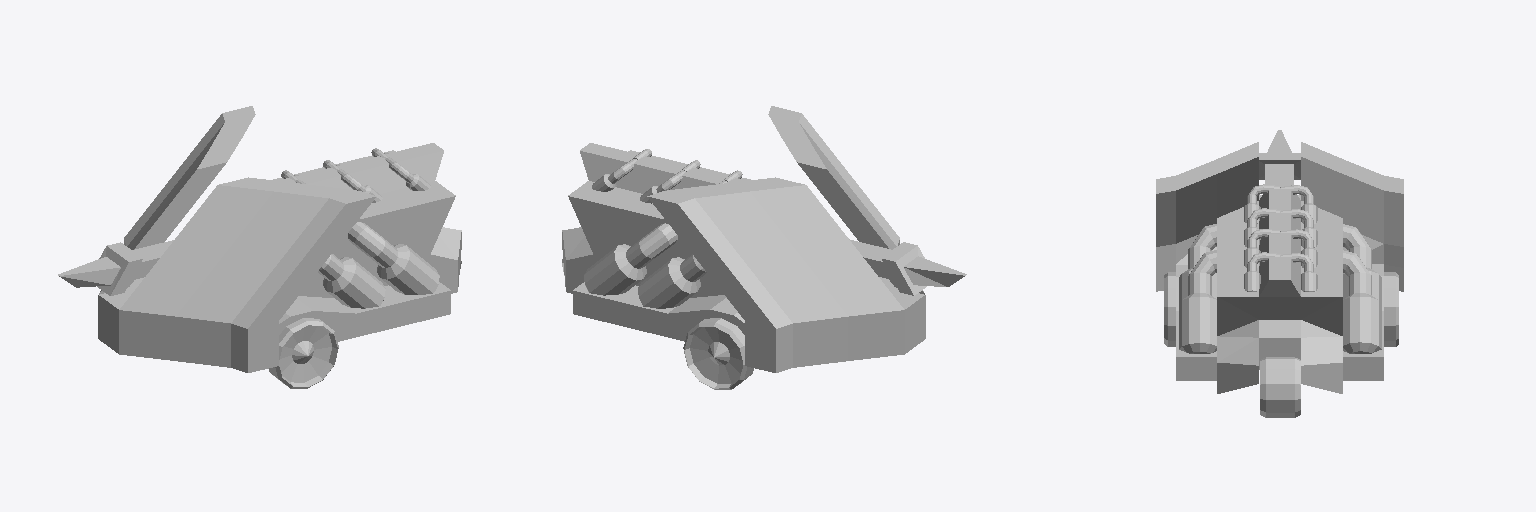
File: CrackHammer.obj
3 renders of one model, left to right at view 1: azimuth 30°, elevation 25°; view 2: azimuth 150°, elevation 25°; view 3: azimuth 270°, elevation 25°, orthographic.
Bounding box in the file's own units: 14.71 × 6.42 × 7.96.